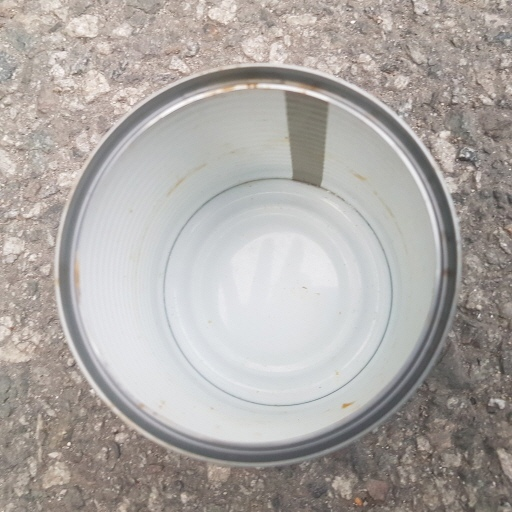Metal_1: (41, 64, 464, 466)
